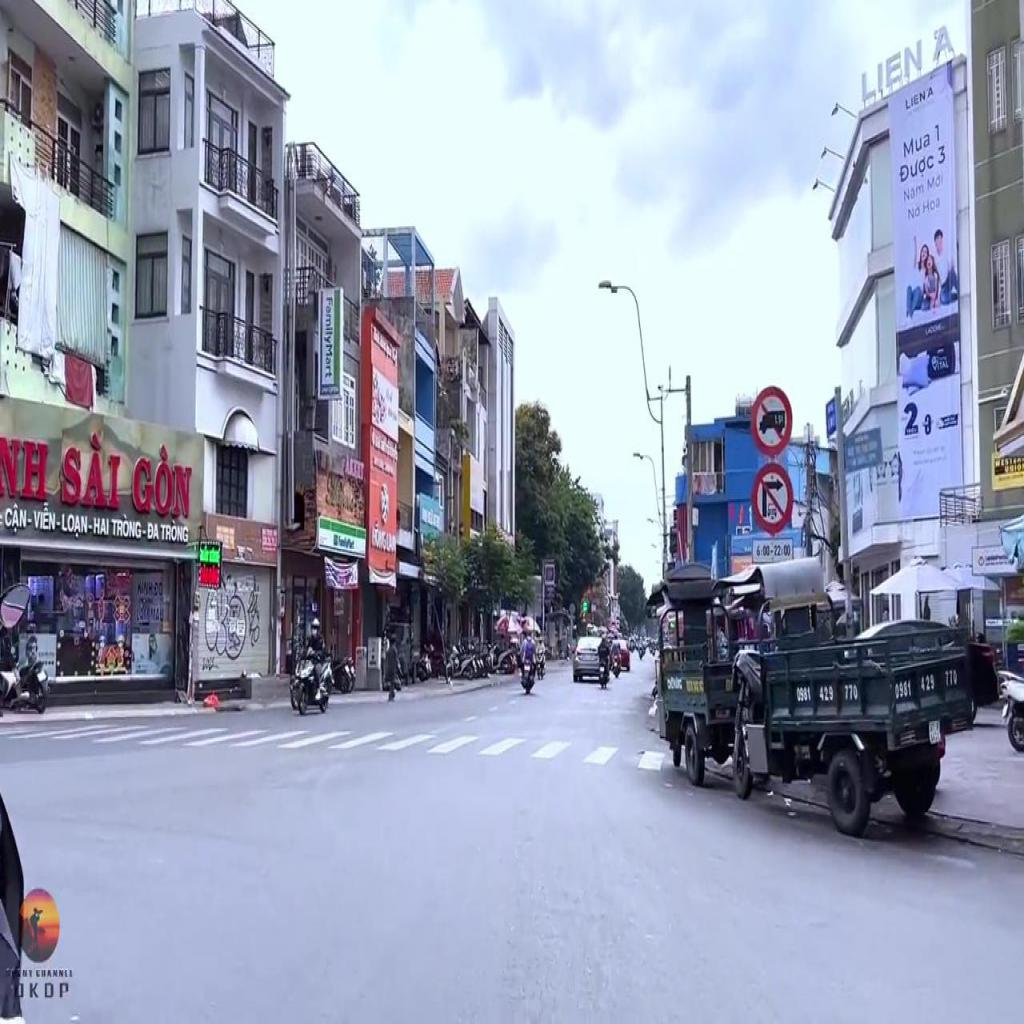cam_o_to_re_phai: (751, 462, 794, 536)
cam_o_to_tai_trong_luong_qua_2-5t: (750, 382, 794, 460)
khac: (752, 539, 794, 563)
